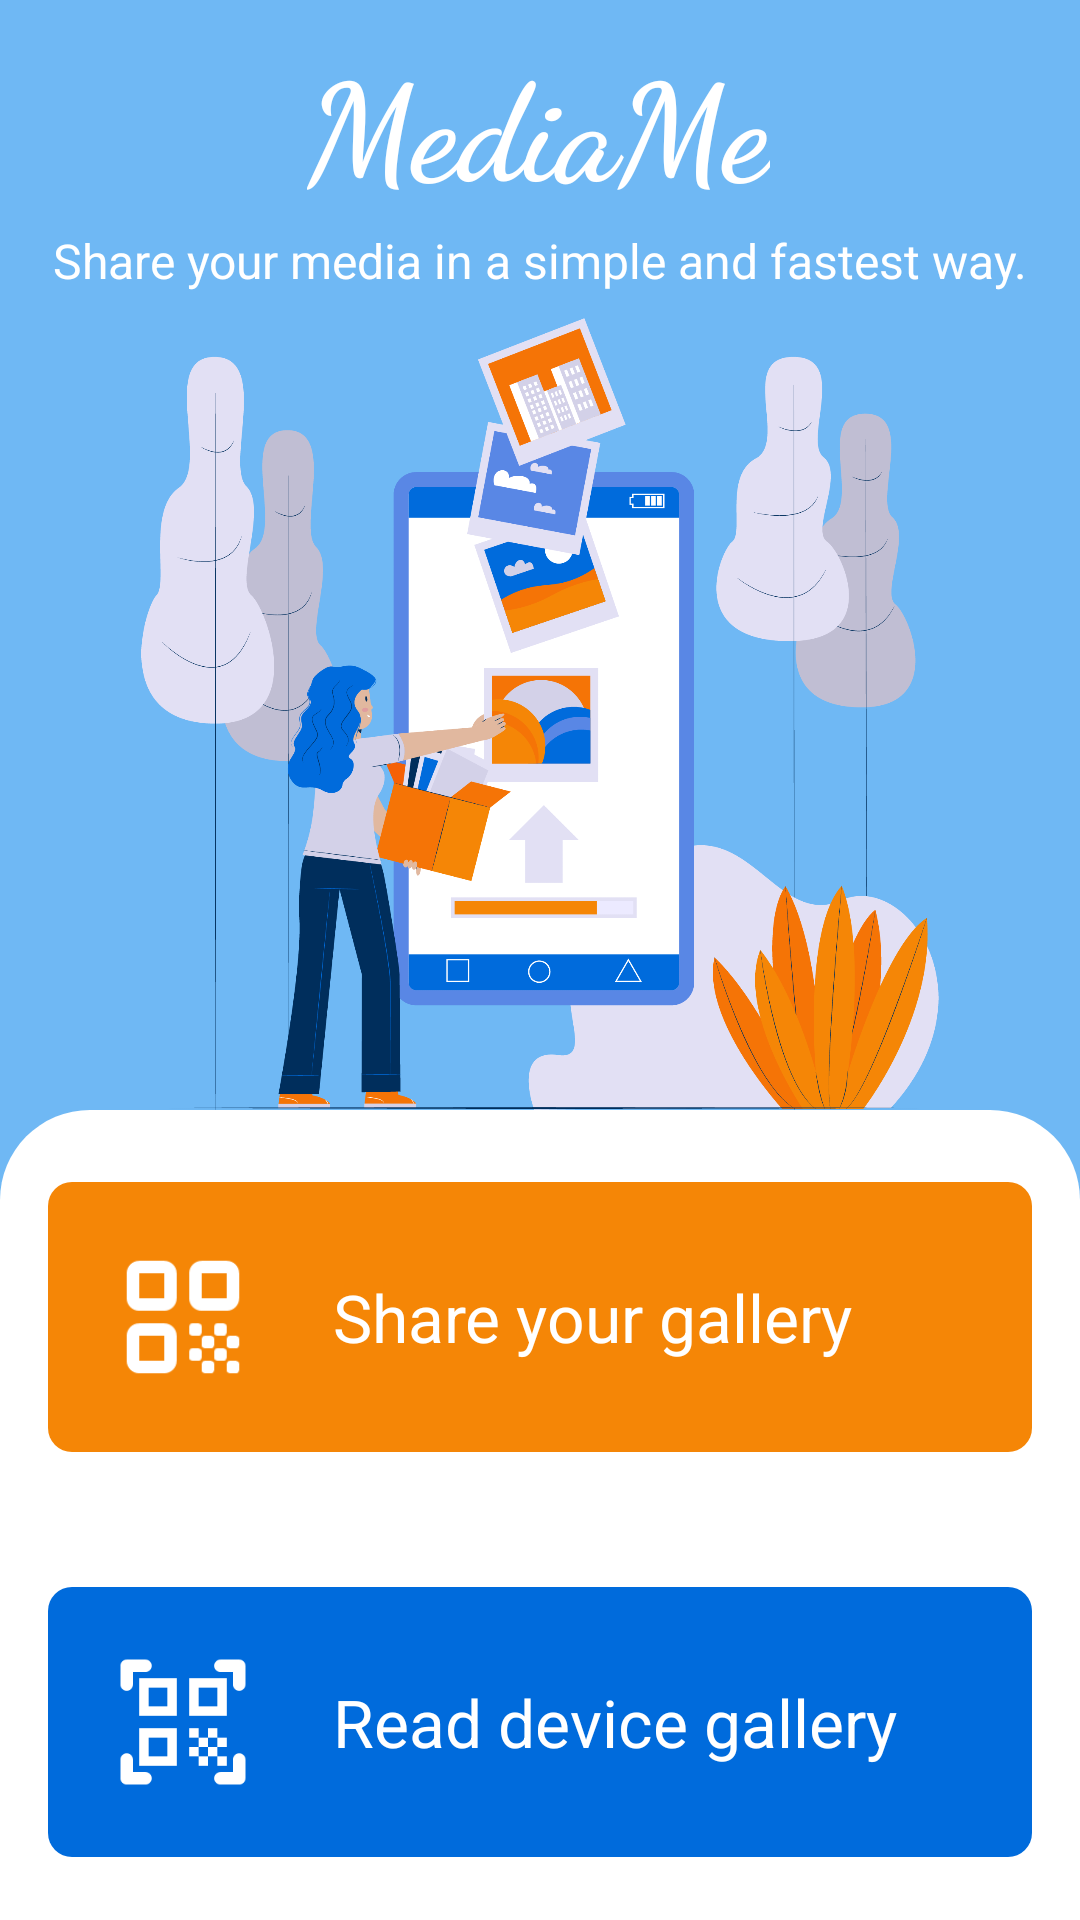

Icon bounding boxes for this 1080w x 1920h phone screenshot, format (x1, y1, x2, y2):
qr code: (126, 1260, 240, 1374)
qr code scanner: (120, 1659, 246, 1785)
